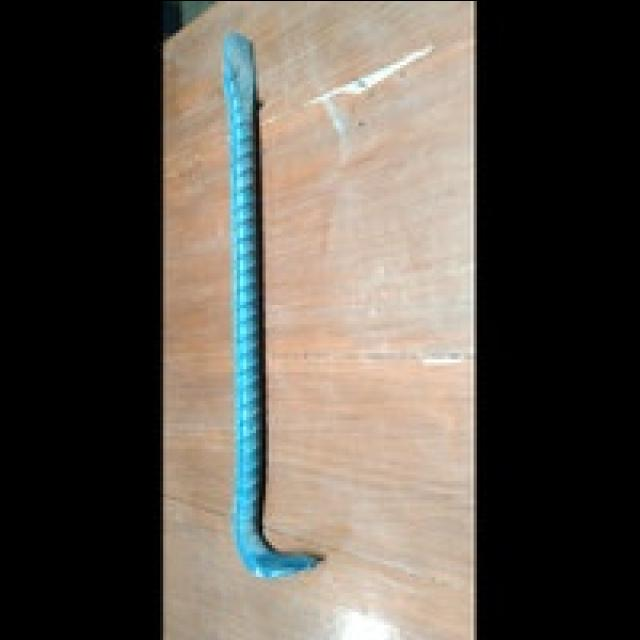Linggis: (217, 35, 323, 579)
